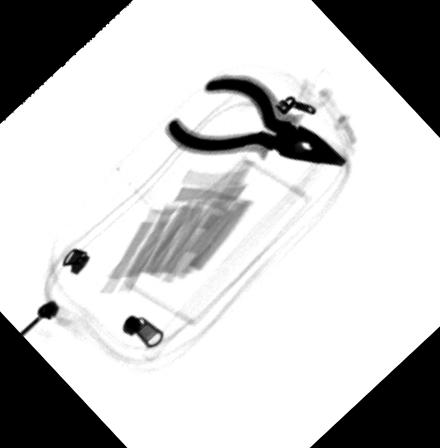Pliers: (164, 71, 348, 167)
